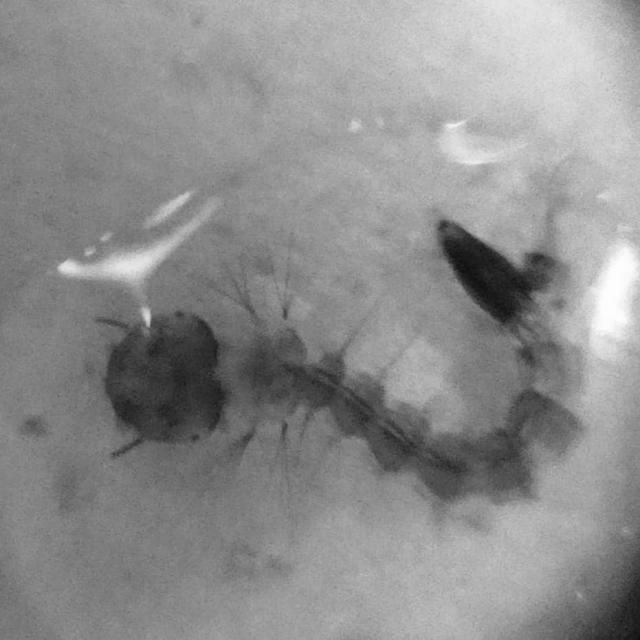larvas: (108, 210, 605, 505)
